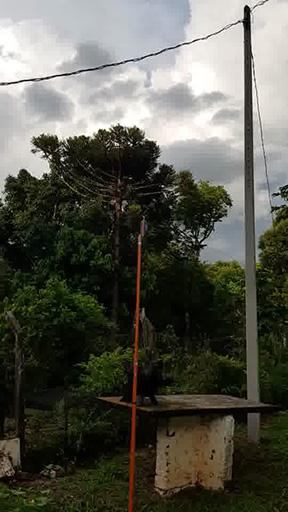Detector_Tensao_Contato: (140, 213, 149, 241)
Vara_Manobra: (129, 240, 142, 512)
